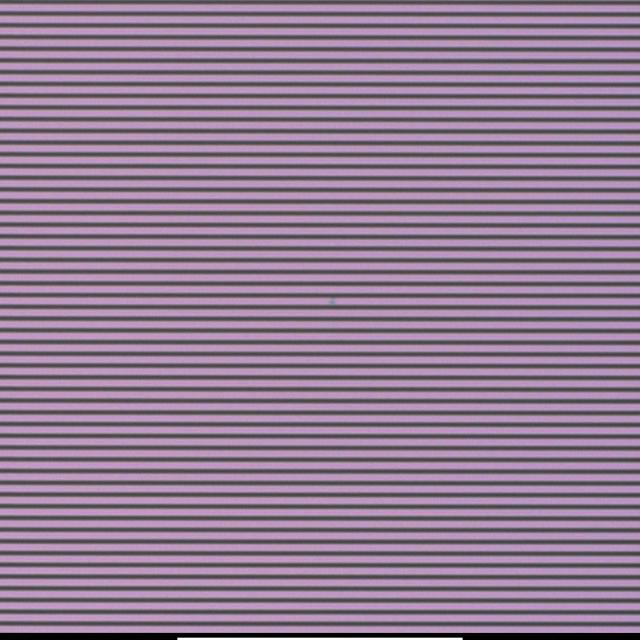nonvisual: (328, 296, 340, 313)
